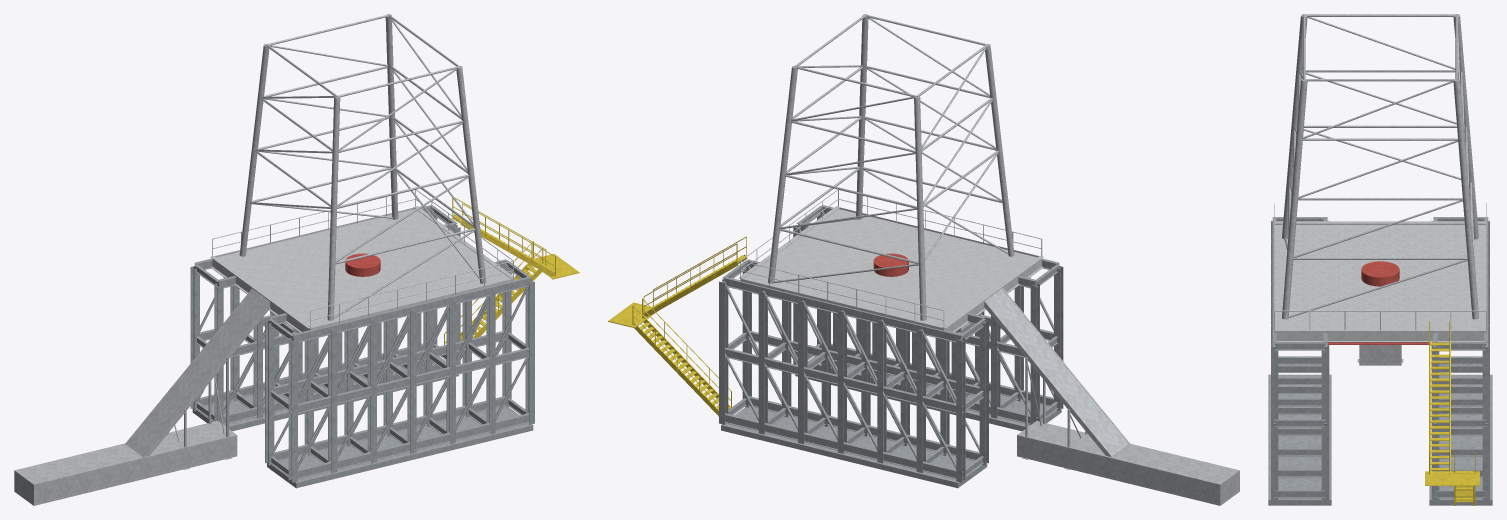
File: derrick-substructures.glb
3 views of the same model, side by side, from view 1: azimuth 30°, elevation 25°; view 2: azimuth 150°, elevation 25°; view 3: azimuth 270°, elevation 25° (orthographic). The views are drawn at different scales.
Parts seen in each view (by area): view 1: SubstructureBoxes, DrillFloor, DerrickLegs(lowersection), V-DoorRamp&Catwalk, Stairs&Handrails, Rotary&SetbackBeams; view 2: SubstructureBoxes, DrillFloor, DerrickLegs(lowersection), V-DoorRamp&Catwalk, Stairs&Handrails; view 3: DrillFloor, SubstructureBoxes, DerrickLegs(lowersection), Stairs&Handrails, Rotary&SetbackBeams, V-DoorRamp&Catwalk.
Part boxes in pixels (x1=…): SubstructureBoxes: x1=190, y1=205, x2=534, y2=488; DrillFloor: x1=210, y1=189, x2=515, y2=332; DerrickLegs(lowersection): x1=239, y1=14, x2=486, y2=320; V-DoorRamp&Catwalk: x1=14, y1=288, x2=270, y2=505; Stairs&Handrails: x1=444, y1=197, x2=579, y2=345; Rotary&SetbackBeams: x1=345, y1=253, x2=380, y2=276; SubstructureBoxes: x1=719, y1=205, x2=1063, y2=488; DrillFloor: x1=739, y1=189, x2=1043, y2=332; DerrickLegs(lowersection): x1=768, y1=14, x2=1014, y2=320; V-DoorRamp&Catwalk: x1=984, y1=288, x2=1239, y2=505; Stairs&Handrails: x1=608, y1=236, x2=747, y2=416; DrillFloor: x1=1274, y1=203, x2=1486, y2=342; SubstructureBoxes: x1=1268, y1=217, x2=1492, y2=505; DerrickLegs(lowersection): x1=1282, y1=14, x2=1478, y2=319; Stairs&Handrails: x1=1425, y1=321, x2=1479, y2=505; Rotary&SetbackBeams: x1=1327, y1=261, x2=1432, y2=344; V-DoorRamp&Catwalk: x1=1357, y1=225, x2=1403, y2=365.
Size of the model in its own units: 34 by 20.66 by 10.6.
Materials: 5 (5 with a texture image).
